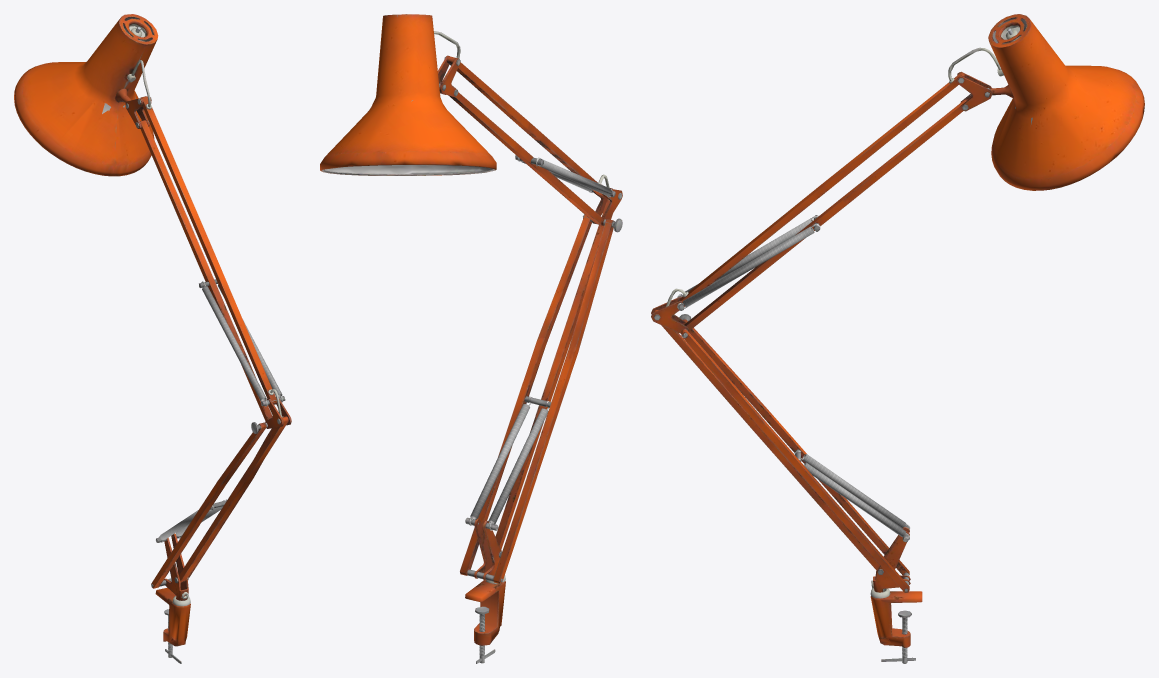
The model's file is desk_lamp_arm_01.glb.
3 renders of one model, left to right at view 1: azimuth 30°, elevation 25°; view 2: azimuth 150°, elevation 25°; view 3: azimuth 270°, elevation 25°, orthographic. The views are drawn at different scales.
Visible parts, largest first — view 1: desk_lamp_arm_01; view 2: desk_lamp_arm_01; view 3: desk_lamp_arm_01.
Part boxes in pixels (box(x1,y1,x2,y2)): desk_lamp_arm_01: box(14, 14, 291, 663); desk_lamp_arm_01: box(320, 14, 622, 663); desk_lamp_arm_01: box(651, 14, 1144, 663).
Size of the model in its own units: 0.2018 by 0.8926 by 0.6139.
2 materials, 2 textured.
